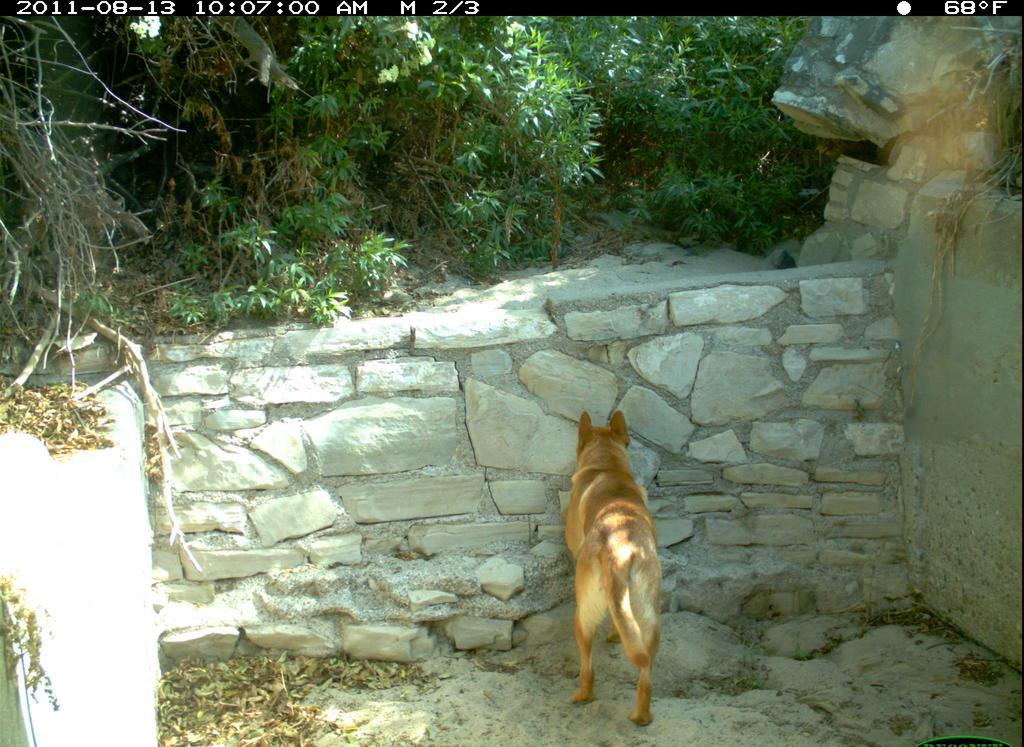dog: (539, 377, 740, 738)
